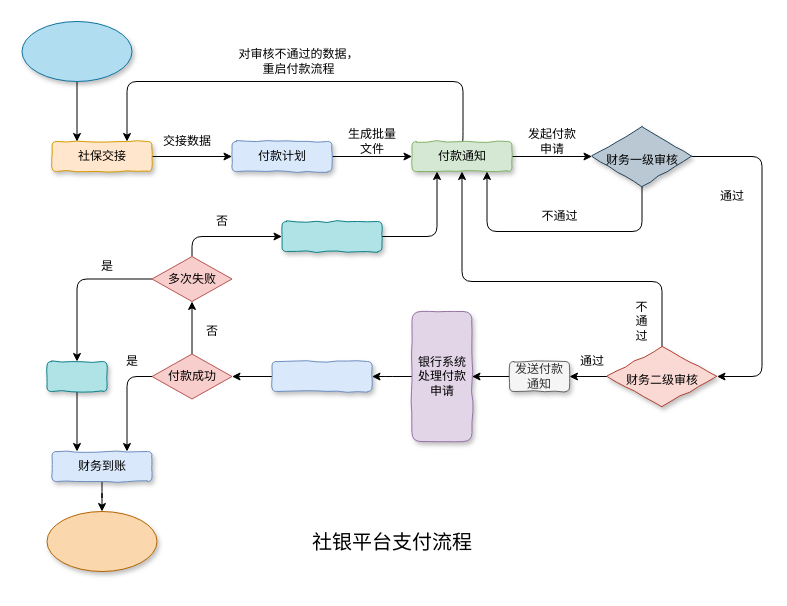
Some shapes in this 787 by 606 pixel diagram are drawn without their labels. The centre of each missing label's shape, as x and y in pixels:
END: the point at 102,542
START: the point at 77,52
付款失败重发: the point at 332,237
回盘socket服务: the point at 322,377
社银转手工记账: the point at 77,377
